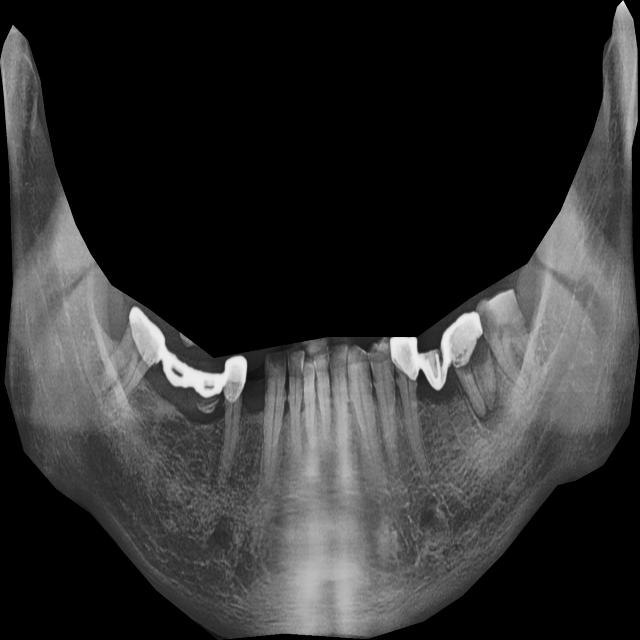mandibula: (0, 0, 640, 640)
